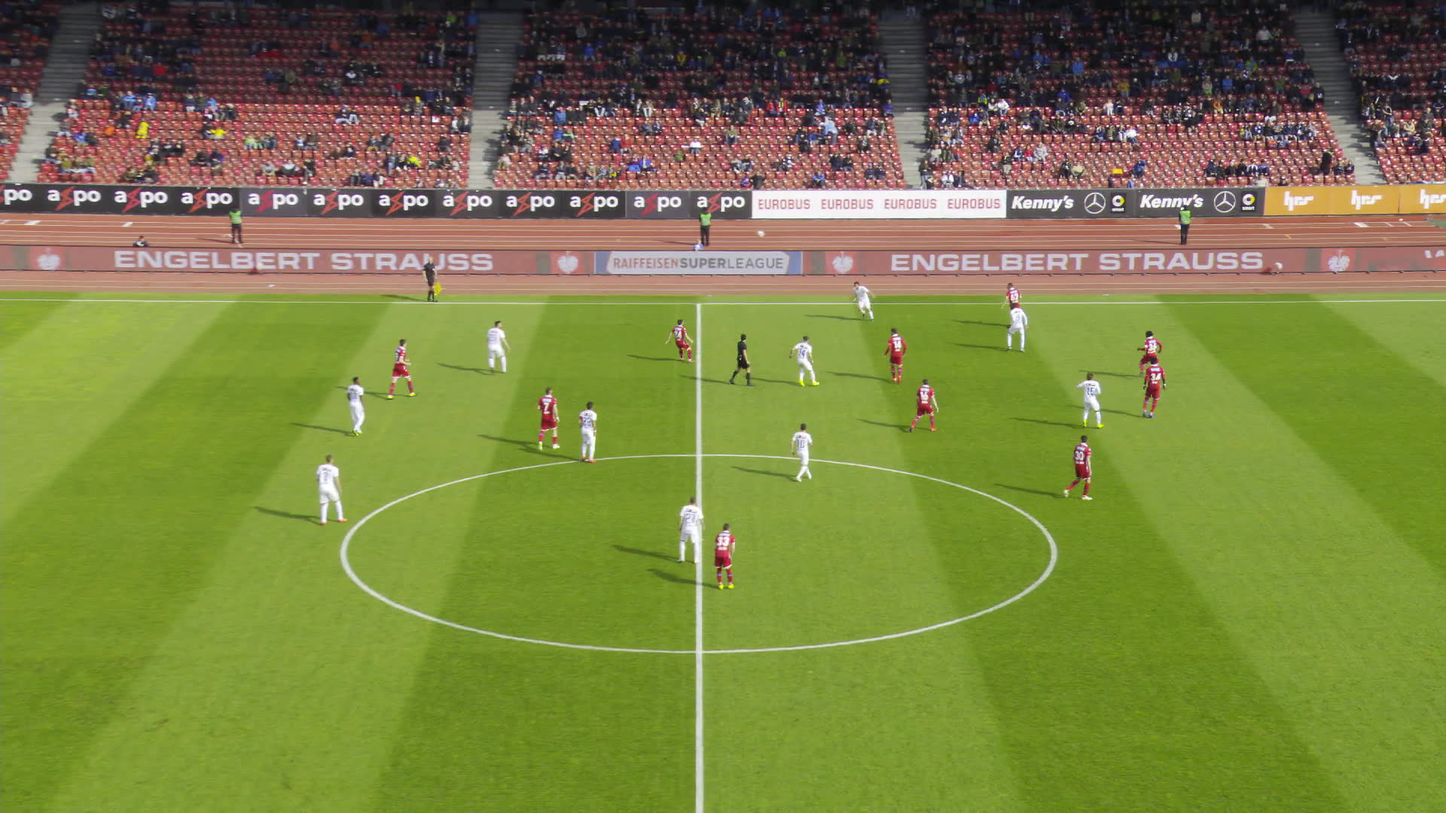ball: (758, 230, 764, 236)
player: (1066, 434, 1105, 503), (322, 454, 355, 525), (1133, 358, 1170, 419), (676, 495, 708, 565), (715, 520, 745, 590), (907, 376, 941, 435), (389, 337, 419, 400), (539, 385, 566, 451), (579, 403, 607, 464), (790, 336, 822, 388), (998, 301, 1030, 352), (792, 422, 819, 482), (1075, 371, 1103, 428), (344, 376, 370, 437), (1133, 329, 1164, 379), (883, 324, 908, 385), (487, 319, 514, 374), (667, 315, 697, 361), (850, 279, 879, 323), (999, 278, 1023, 324)
referee: (731, 333, 758, 388), (425, 257, 449, 304)
